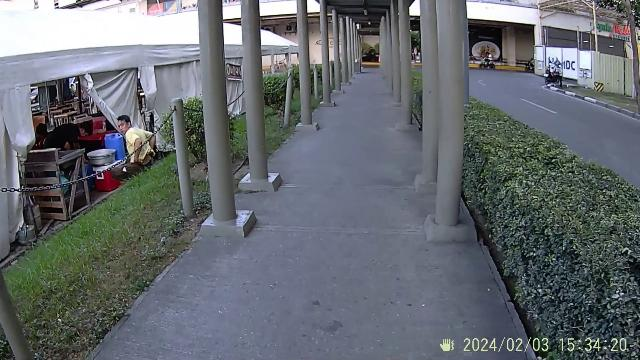street_vendor_cart: (18, 51, 130, 221)
